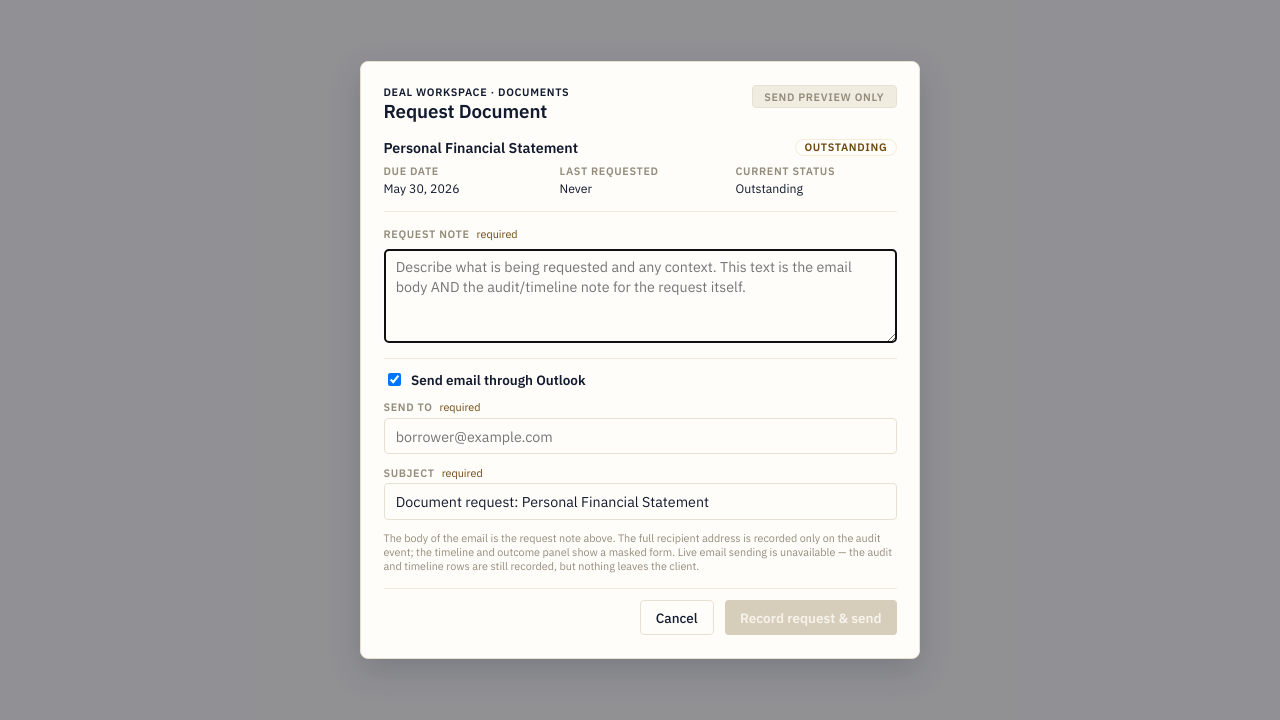
Test: RequestDocumentModal — Phase 61 Outlook send path › lets the banker toggle send OFF and revert to the request-only flow
Step 1. Click the checkbox labelled "Send email through Outlook" → (394, 380), box left=388, top=373, right=400, bottom=386
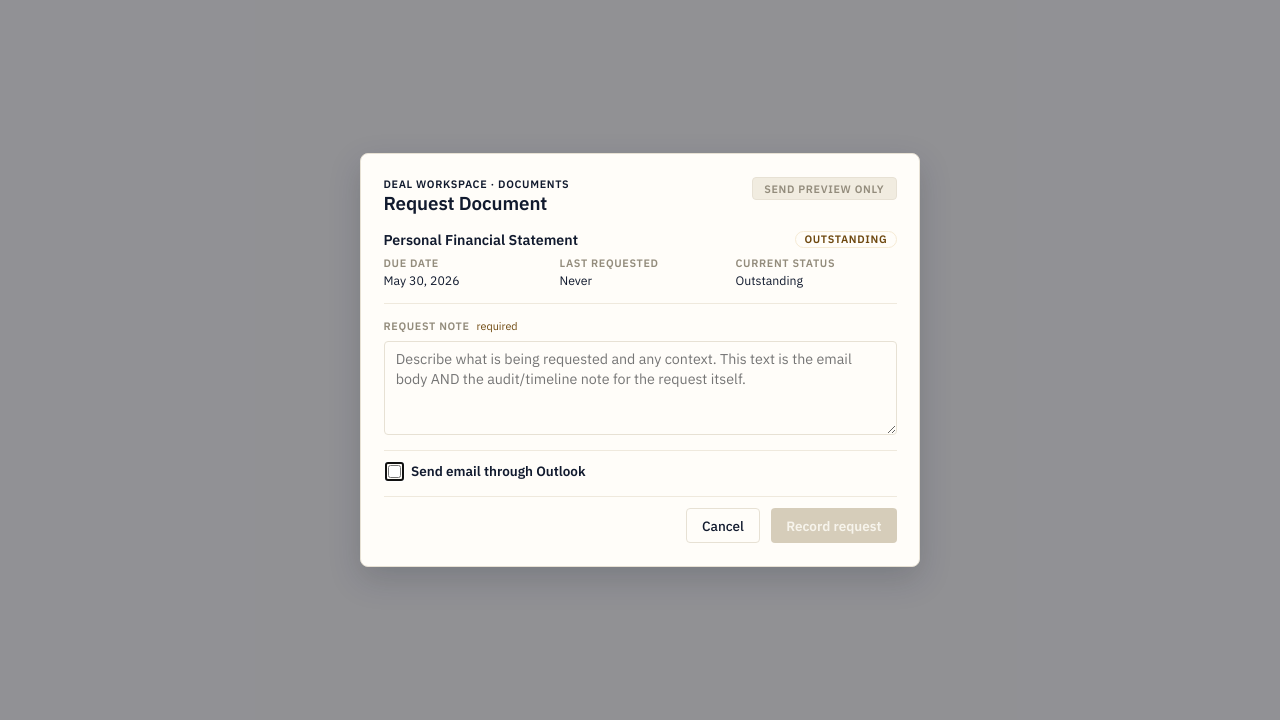
Check: the button "Record request" is shown, box left=771, top=508, right=896, bottom=543
Step 2. Type "please upload" into the text box labelled "Request note required" → (640, 388), box left=384, top=341, right=896, bottom=435
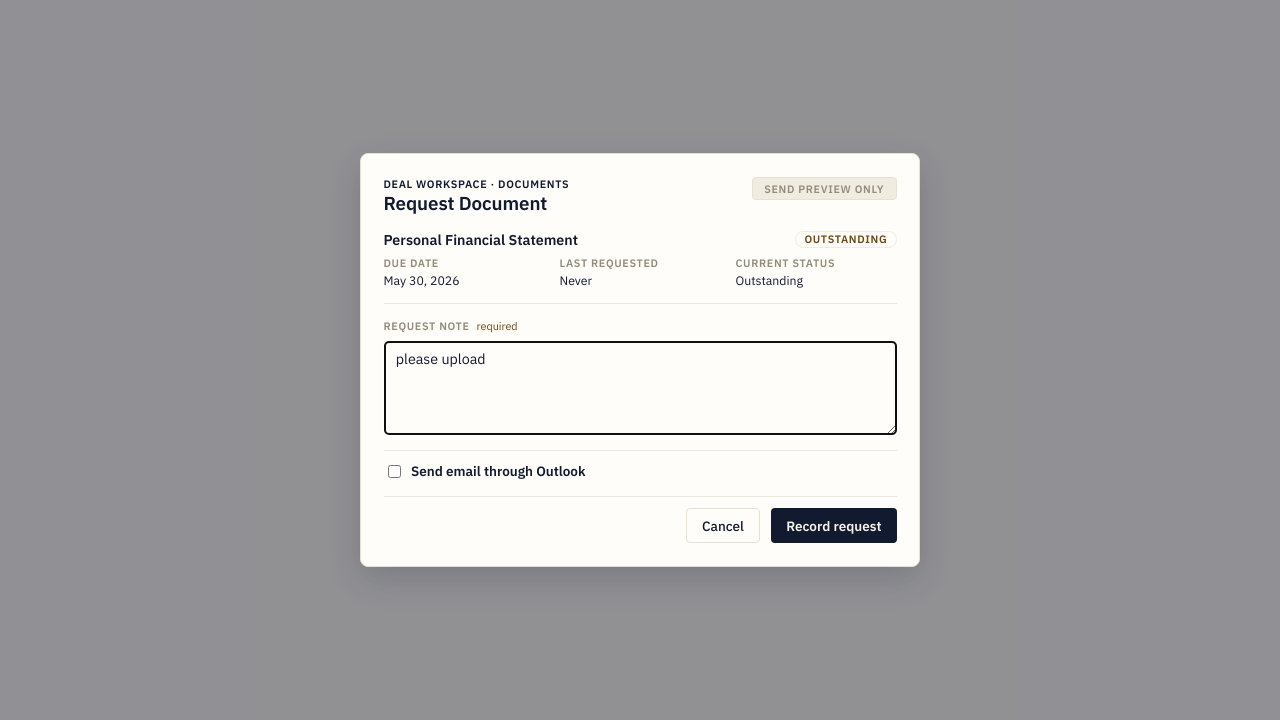
Step 3. Click the button "Record request" → (834, 526), box left=771, top=508, right=896, bottom=543
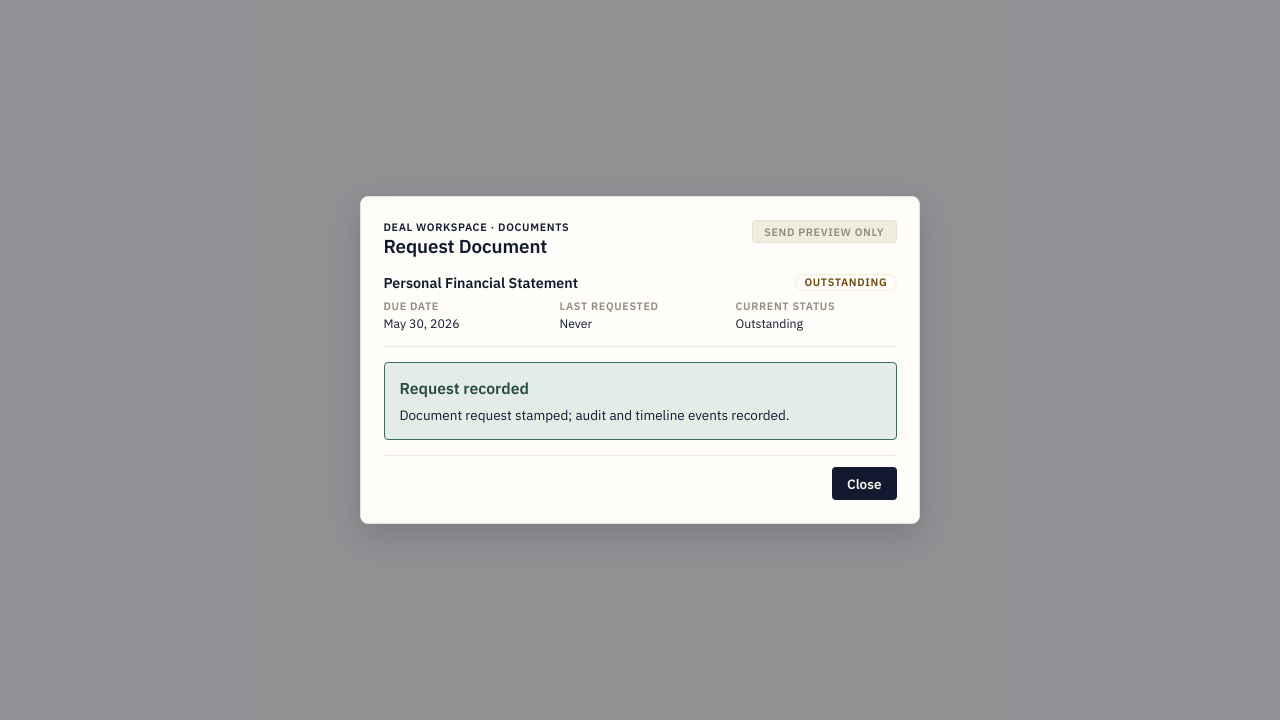
Check: the text "Request recorded" is shown, box left=400, top=378, right=529, bottom=398
